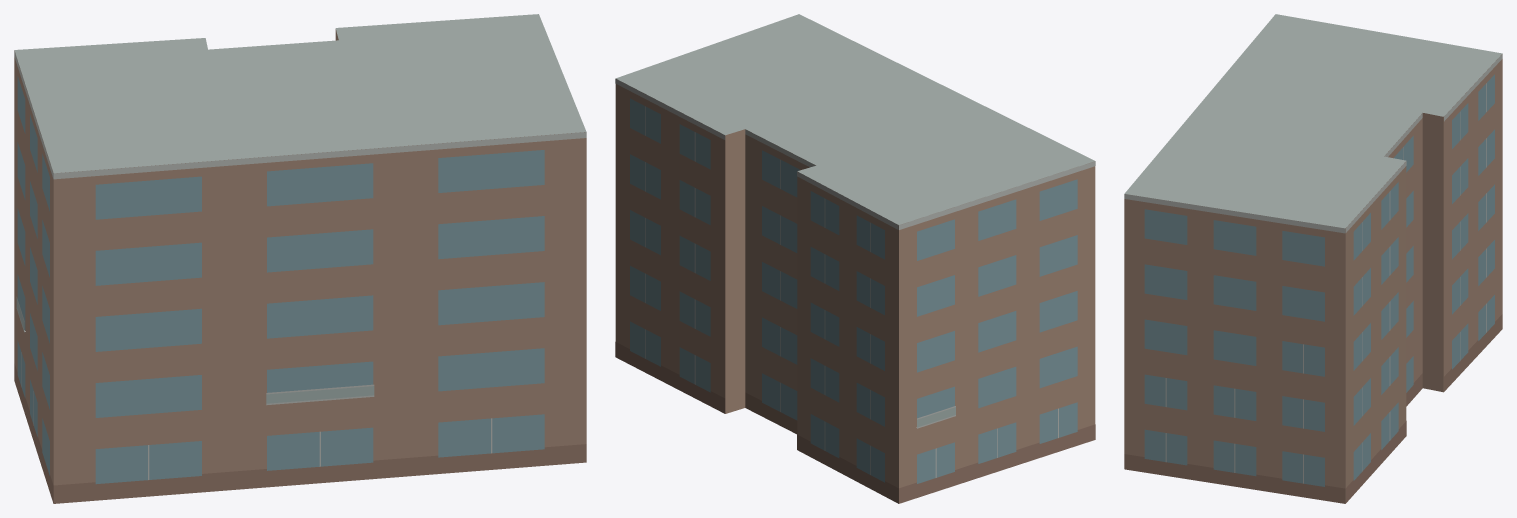
The model's file is survey-upis-32732629.glb.
3 renders of one model, left to right at view 1: azimuth 30°, elevation 25°; view 2: azimuth 150°, elevation 25°; view 3: azimuth 270°, elevation 25°, orthographic. The views are drawn at different scales.
Visible parts, largest first — view 1: survey-upis-32732629.tmp; view 2: survey-upis-32732629.tmp; view 3: survey-upis-32732629.tmp.
Boxes of the visible parts, bbox=[...] form: survey-upis-32732629.tmp: bbox=[14, 14, 586, 503]; survey-upis-32732629.tmp: bbox=[615, 14, 1095, 503]; survey-upis-32732629.tmp: bbox=[1124, 14, 1502, 503].
Bounding box in the file's own units: 22.26 × 13.33 × 16.6.
